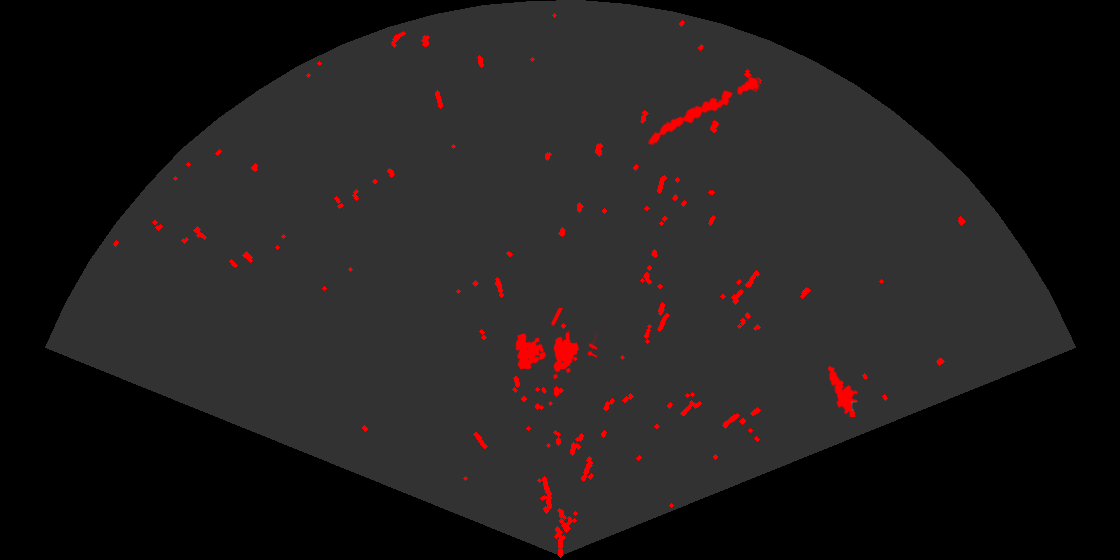cage: (514, 308, 597, 381)
chain: (646, 75, 761, 147)
frogman: (826, 364, 860, 417)
